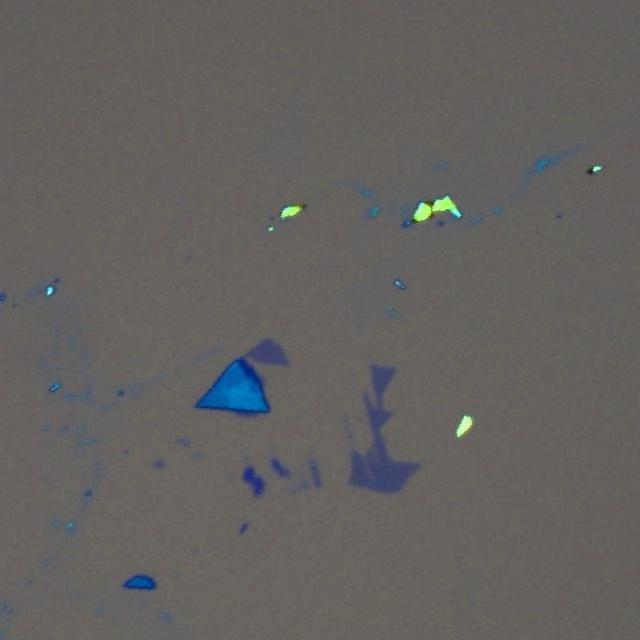monolayer-eWW4: (344, 357, 424, 496), (240, 336, 292, 368)
